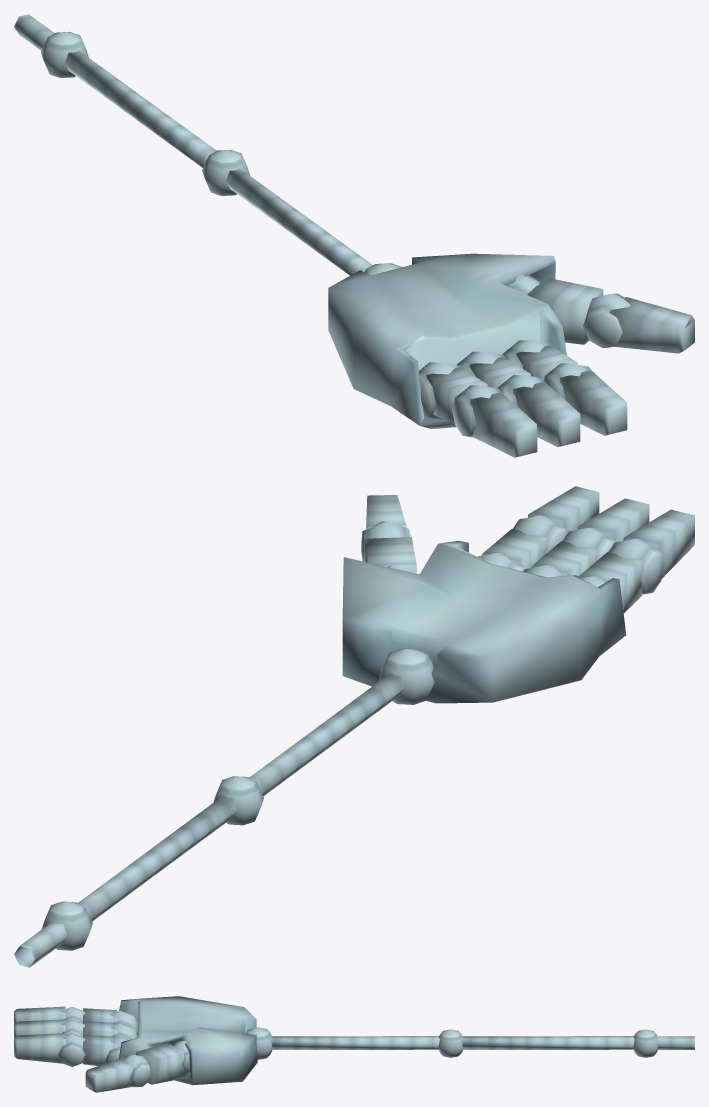
The model's file is Arma.obj.
3 views of the same model, one above another, from view 1: azimuth 30°, elevation 25°; view 2: azimuth 150°, elevation 25°; view 3: azimuth 270°, elevation 25° (orthographic). The views are drawn at different scales.
Visible parts, largest first — view 1: polySurface127; view 2: polySurface127; view 3: polySurface127.
Part boxes in pixels (box(x1,y1,x2,y2)): polySurface127: box(14, 14, 694, 457); polySurface127: box(14, 486, 694, 967); polySurface127: box(14, 996, 694, 1092).
Bounding box in the file's own units: 2.03 × 0.6492 × 7.33.
Materials: 1 (1 with a texture image).
